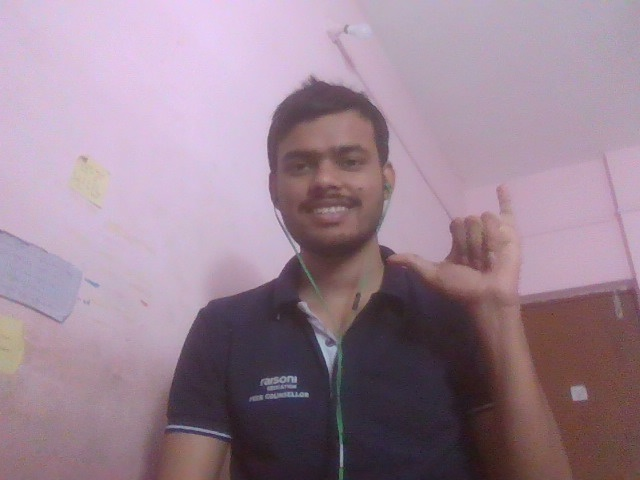ILoveYou: (367, 173, 557, 365)
